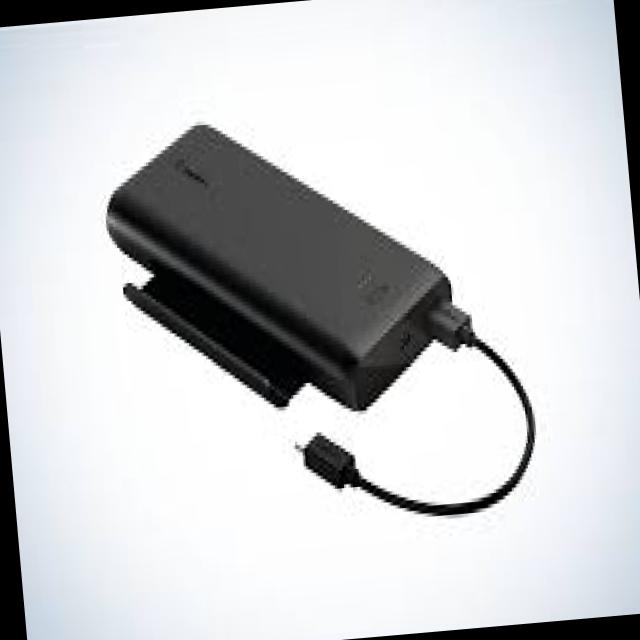power_bank: (95, 96, 468, 438)
